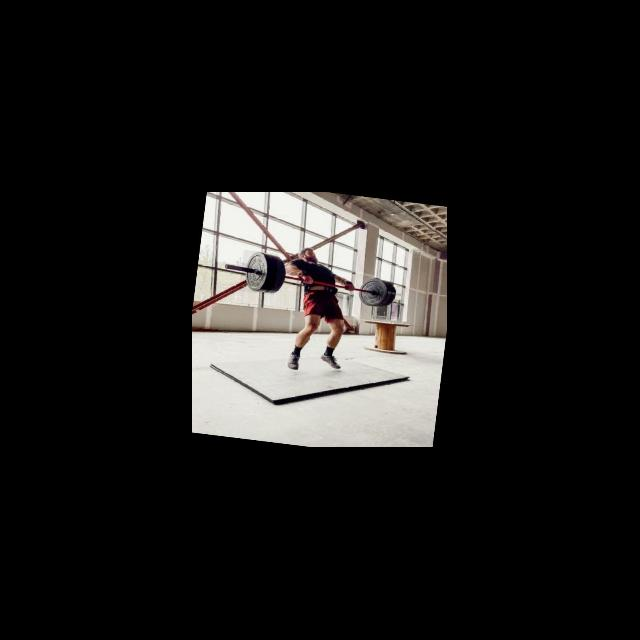barbell: (239, 250, 279, 295)
